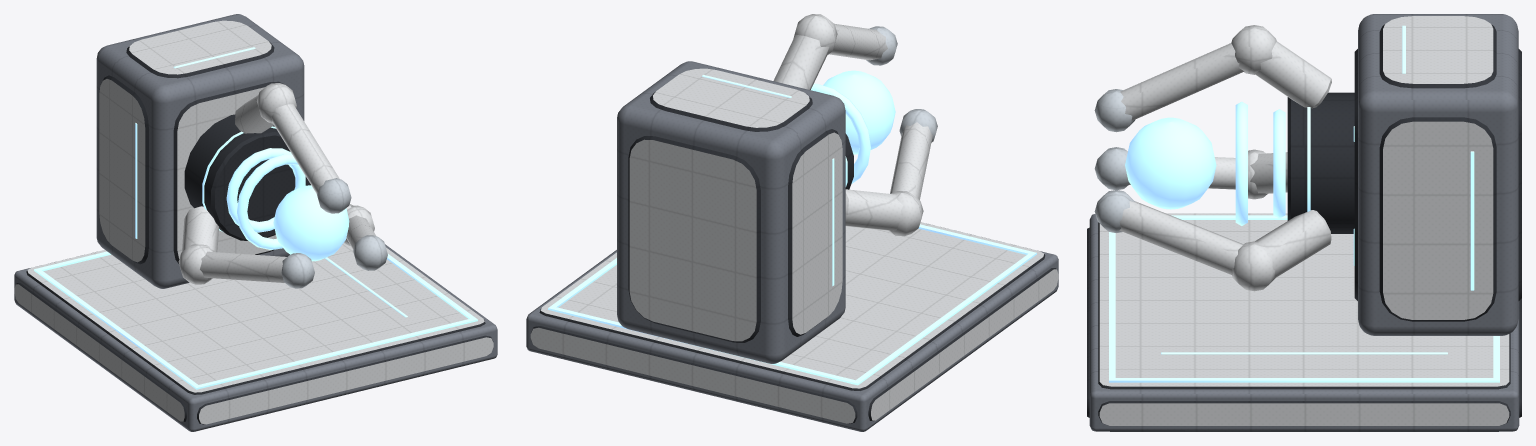
Rendered from R4X_DirectionalEMP.glb.
3 renders of one model, left to right at view 1: azimuth 30°, elevation 25°; view 2: azimuth 150°, elevation 25°; view 3: azimuth 270°, elevation 25°, orthographic. The views are drawn at different scales.
Parts seen in each view (by area): view 1: R4X_DirectionalEMP_Body; view 2: R4X_DirectionalEMP_Body; view 3: R4X_DirectionalEMP_Body.
Part boxes in pixels (x1,y1,x2,y2): R4X_DirectionalEMP_Body: [14, 14, 497, 431]; R4X_DirectionalEMP_Body: [526, 14, 1058, 431]; R4X_DirectionalEMP_Body: [1087, 14, 1521, 431].
Size of the model in its own units: 0.52 by 0.42 by 0.52.
5 materials, 4 textured.
